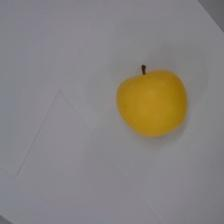yellow: (115, 64, 187, 137)
